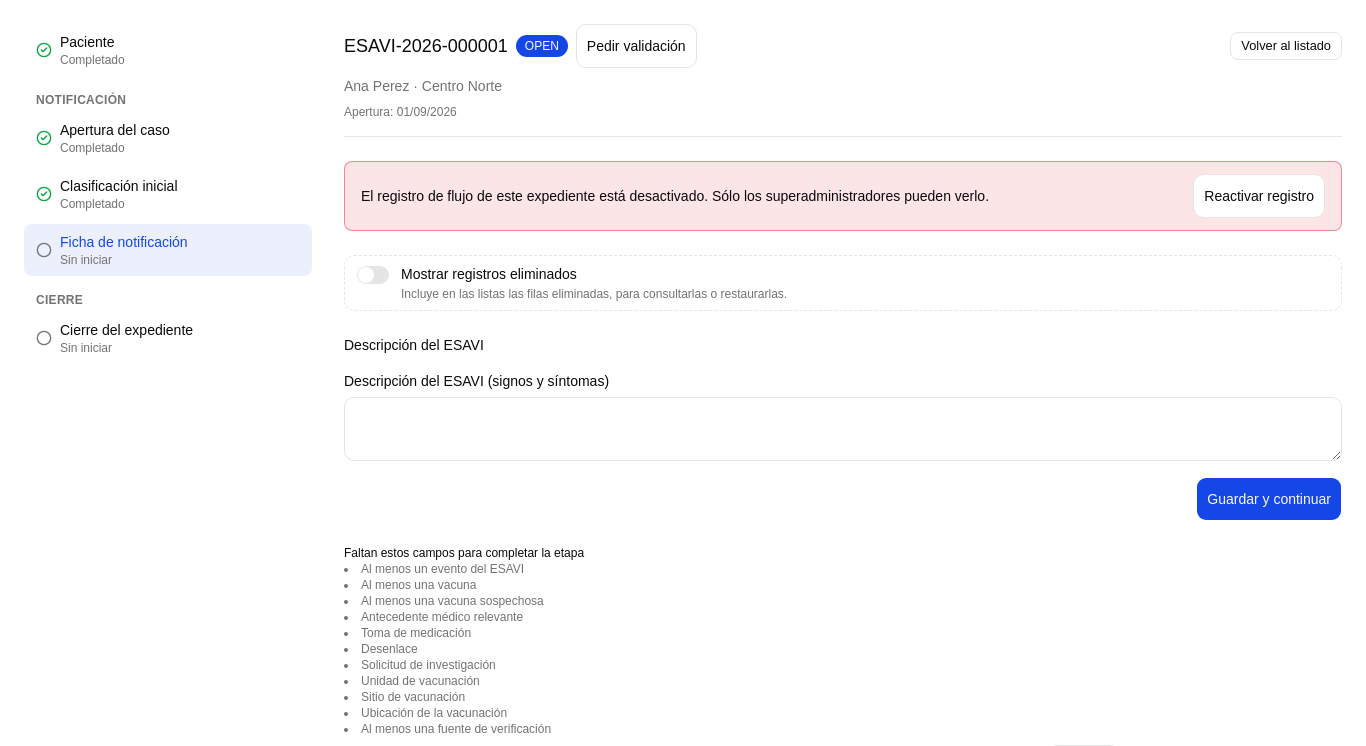
CaseWizardPage — registro de flujo desactivado › tras reactivar, la relectura de 006 trae isActive: true y el aviso desaparece
Click the button "Reactivar registro" at (1259, 196), box [1193,174,1325,218]
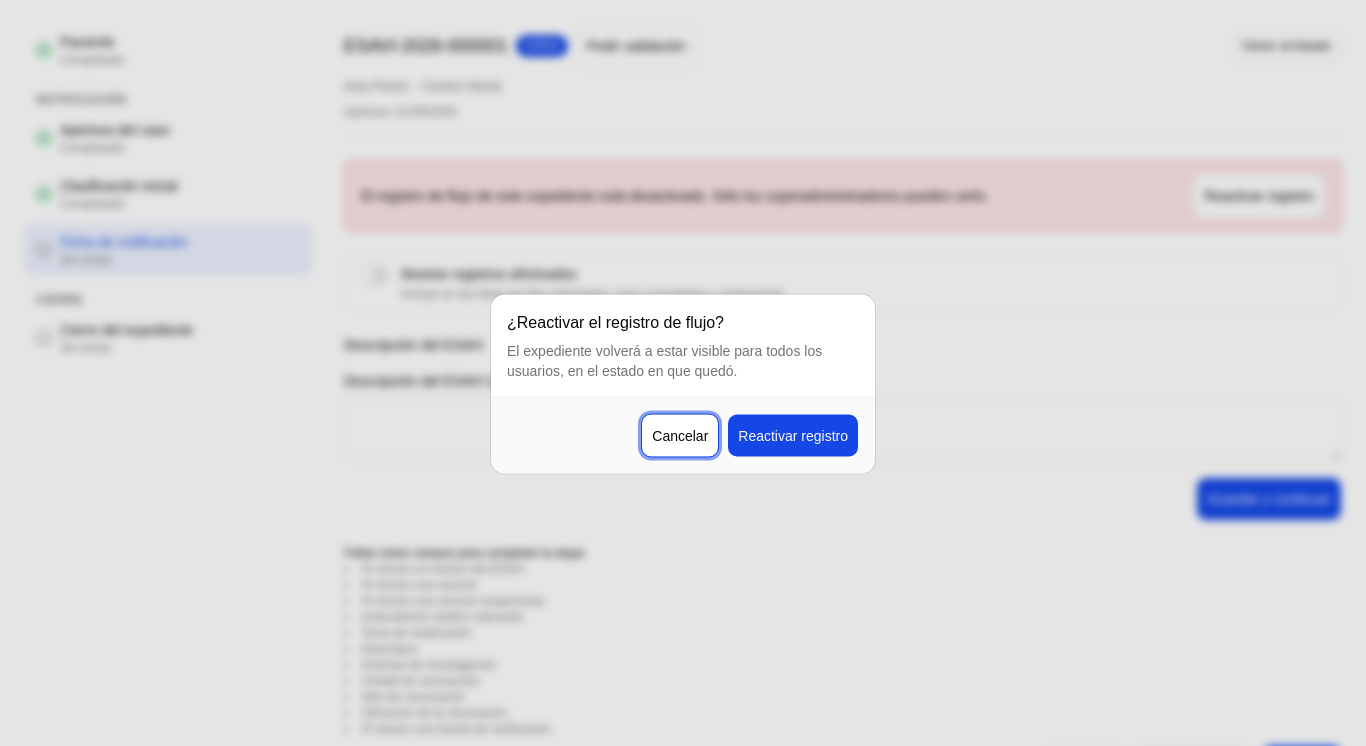
Click the button "Reactivar registro" at (793, 436), box [727,414,859,458]
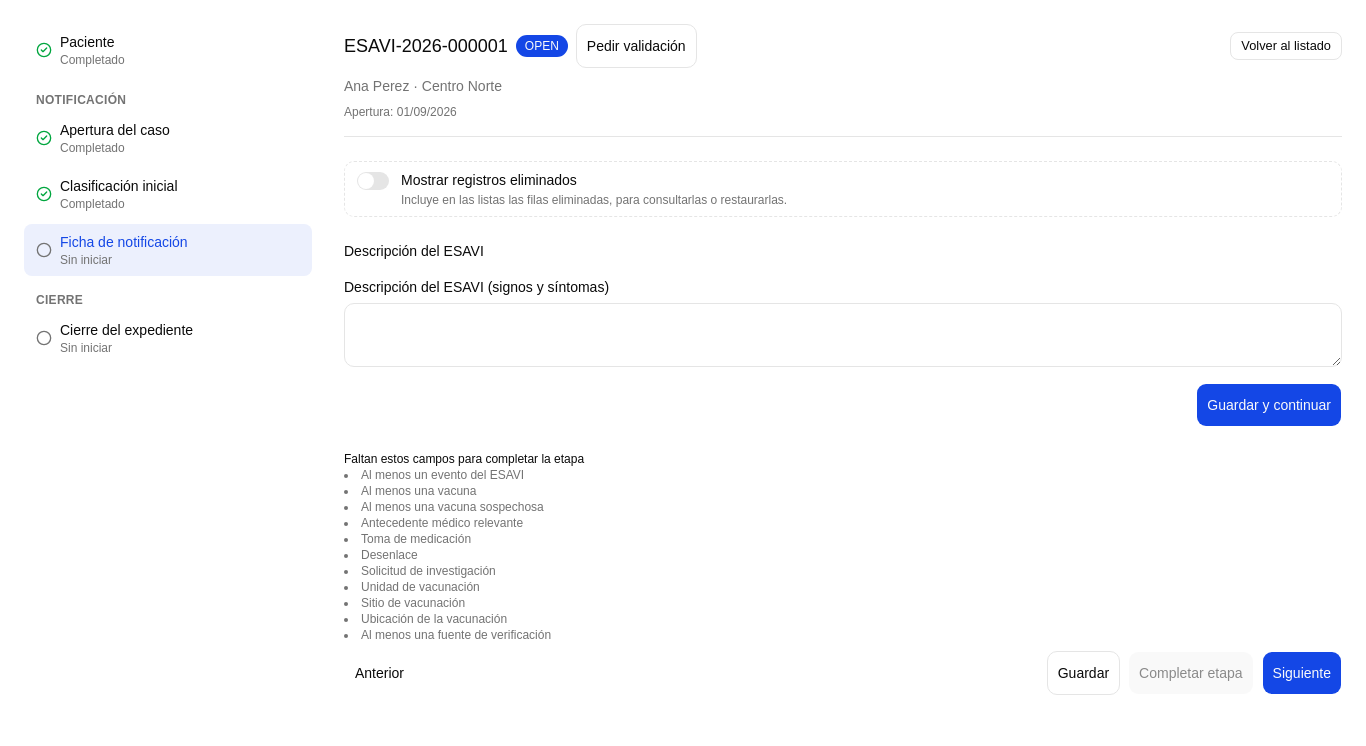
expect the text "El registro de flujo de este expediente está desactivado. Sólo los superadministradores pueden verlo." is gone: met
